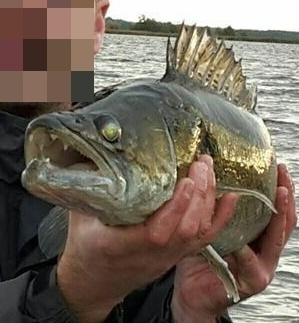Sander lucioperca: (20, 20, 279, 303)
